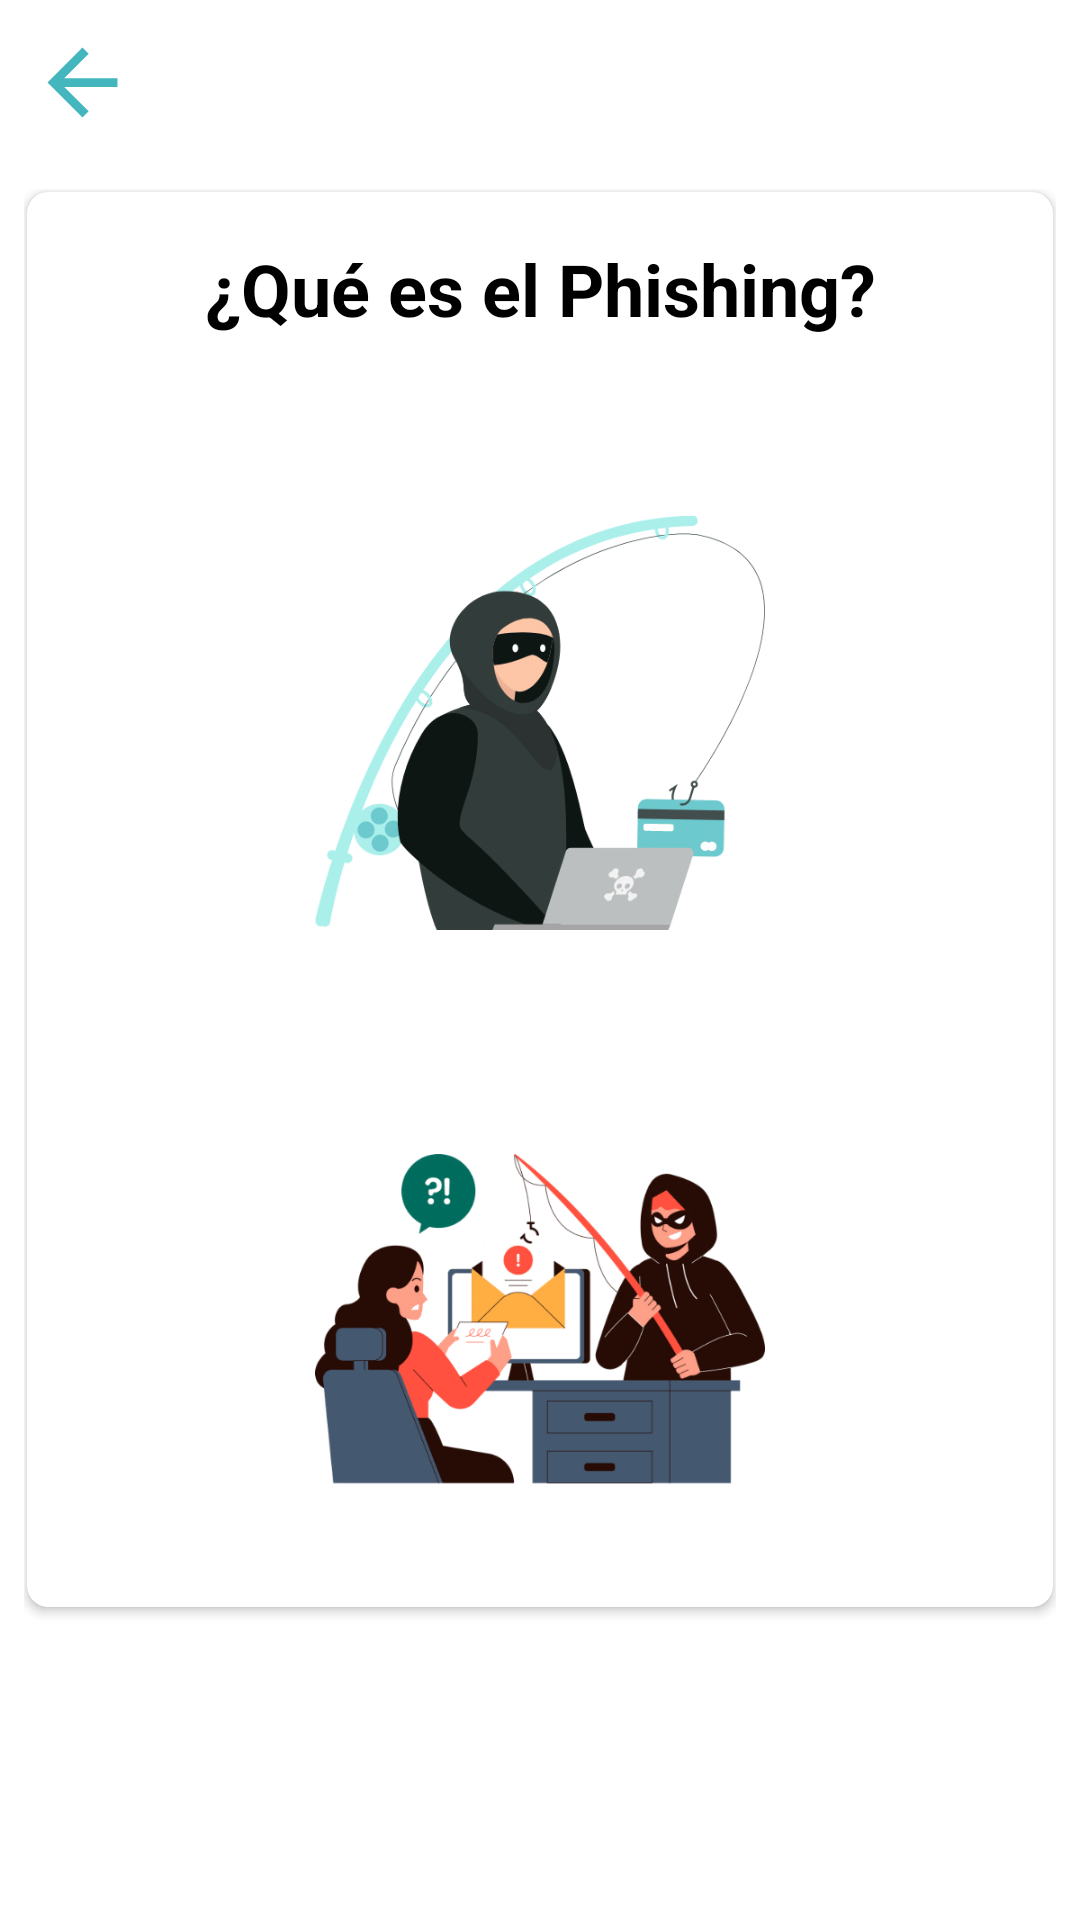

Where to tap for icons on this 1080x1920 app screen, as (x=x, y=y):
back arrow: (x=82, y=82)
